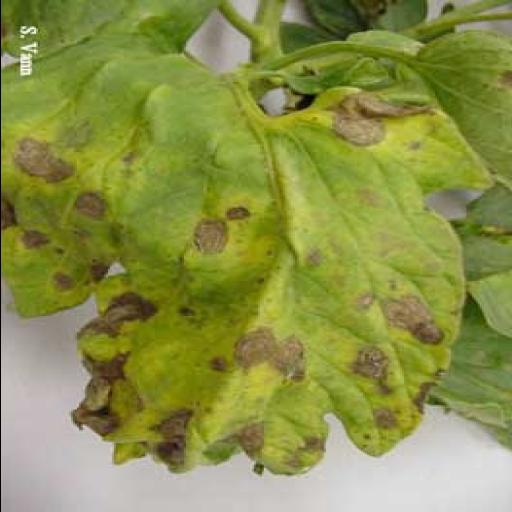disease_tomato: (0, 51, 477, 474)
